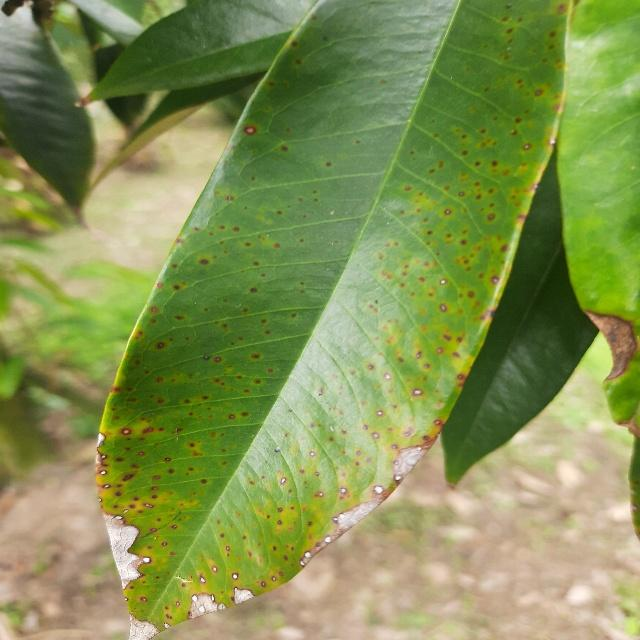Leaf Spot: (93, 0, 575, 640)
